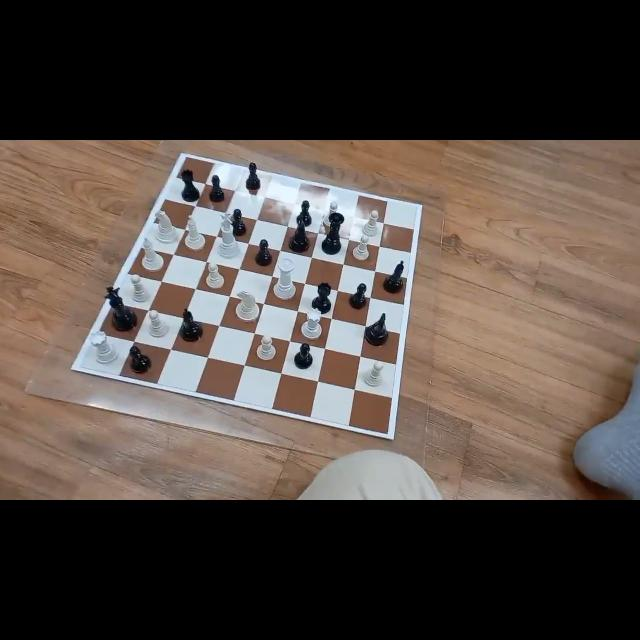chessboard-corner: (180, 150, 186, 156), (67, 368, 73, 372), (392, 437, 396, 441), (420, 203, 422, 207)
